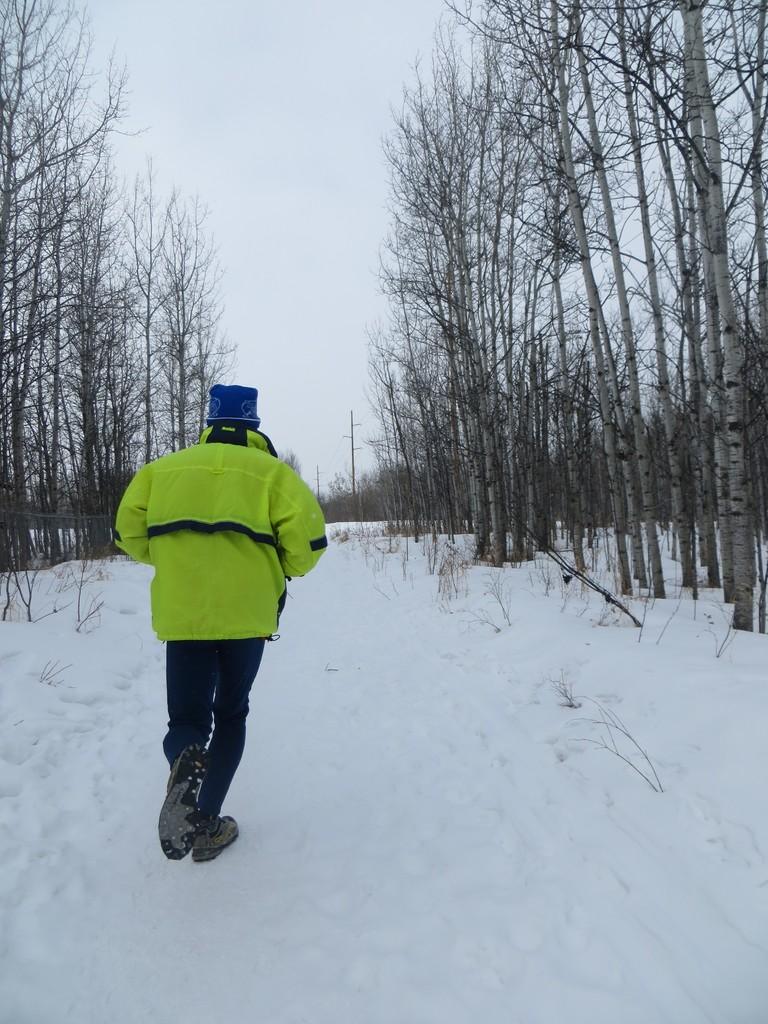Footwear: (158, 743, 216, 865), (184, 813, 242, 865)
